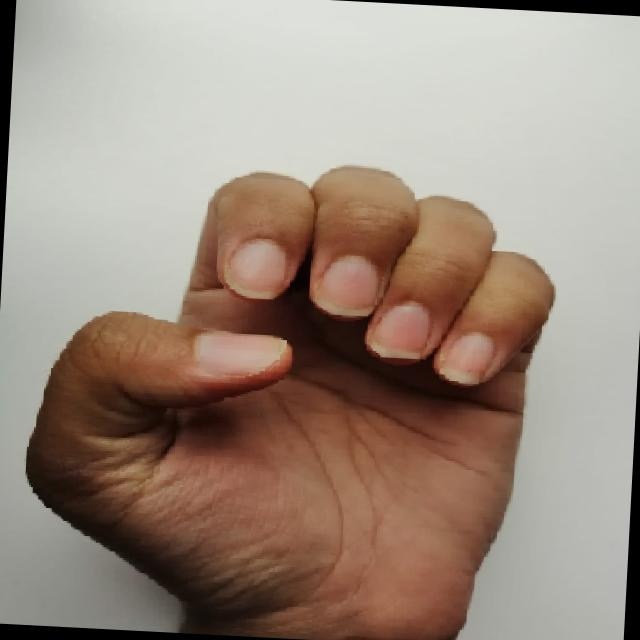Nail: (194, 332, 289, 376), (319, 255, 379, 318), (366, 303, 431, 358), (229, 239, 286, 299), (440, 333, 495, 384)
